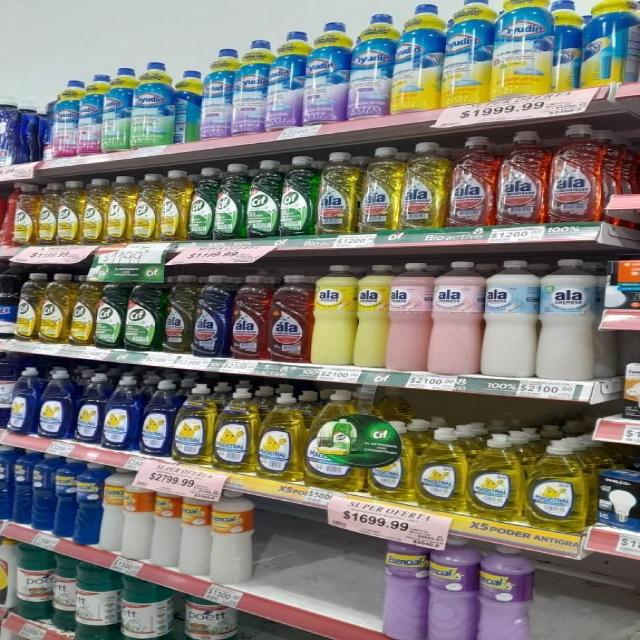ala_conc_amarillo: (401, 141, 446, 229), (315, 151, 357, 234), (359, 146, 400, 231), (164, 275, 194, 354)
ala_conc_azul: (194, 274, 229, 358)
ala_conc_rojo: (549, 123, 604, 223), (496, 130, 546, 225), (448, 136, 494, 228), (268, 273, 310, 364), (230, 274, 267, 360)
ala_crem_amarillo: (312, 264, 353, 366), (354, 263, 387, 369)
ala_crem_blanco: (537, 258, 599, 380), (482, 259, 536, 378)
ala_crem_rosado: (429, 260, 481, 376), (387, 262, 429, 372)
cif_conc_bot_amarilla: (40, 272, 70, 344), (160, 169, 188, 241), (71, 271, 95, 347), (133, 172, 159, 242), (107, 175, 133, 243), (17, 272, 40, 342), (82, 177, 106, 244), (57, 180, 81, 245), (13, 184, 36, 246), (37, 182, 57, 246)
cif_conc_botella_verde: (279, 156, 314, 236), (126, 274, 161, 352), (246, 160, 278, 238), (214, 162, 244, 240), (96, 273, 124, 349), (189, 166, 214, 241)
esencial: (476, 544, 532, 640), (211, 489, 254, 583)
heroe: (152, 483, 180, 568)
magistral_con_amarillo: (526, 438, 590, 531), (468, 433, 523, 520), (416, 426, 466, 512), (258, 391, 302, 482), (215, 387, 256, 472), (369, 424, 414, 500), (174, 382, 213, 466)
magistral_con_azul: (103, 374, 139, 451), (140, 379, 173, 457), (38, 367, 73, 439), (74, 372, 102, 444), (11, 366, 37, 435), (0, 272, 16, 340)
